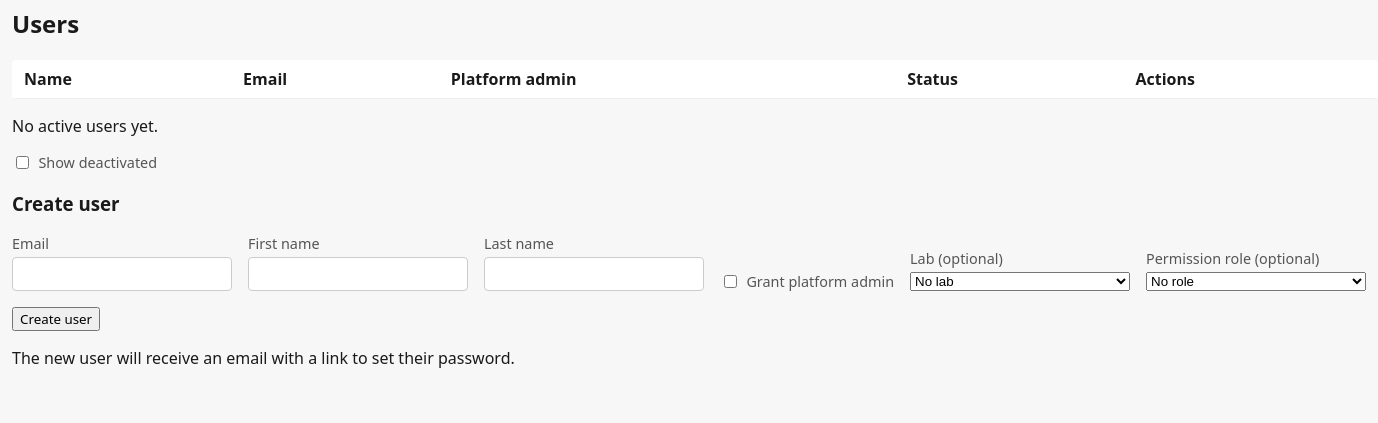
AdminUsers create form › rejects submitting a lab without a permission role
Expected: the text "No active users yet." is shown, [12, 115, 158, 137]
Type "new-hire@example.edu" into the field labelled "Email".
click(122, 274); type("new-hire@example.edu")  # box [12, 257, 232, 291]
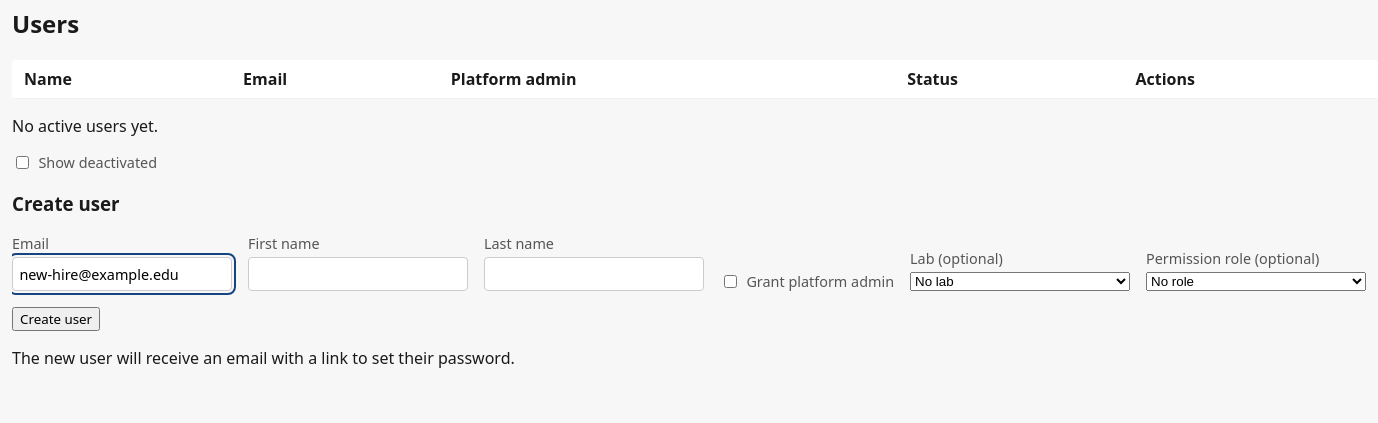
Type "New" into the field labelled "First name".
click(358, 274); type("New")  # box [248, 257, 468, 291]
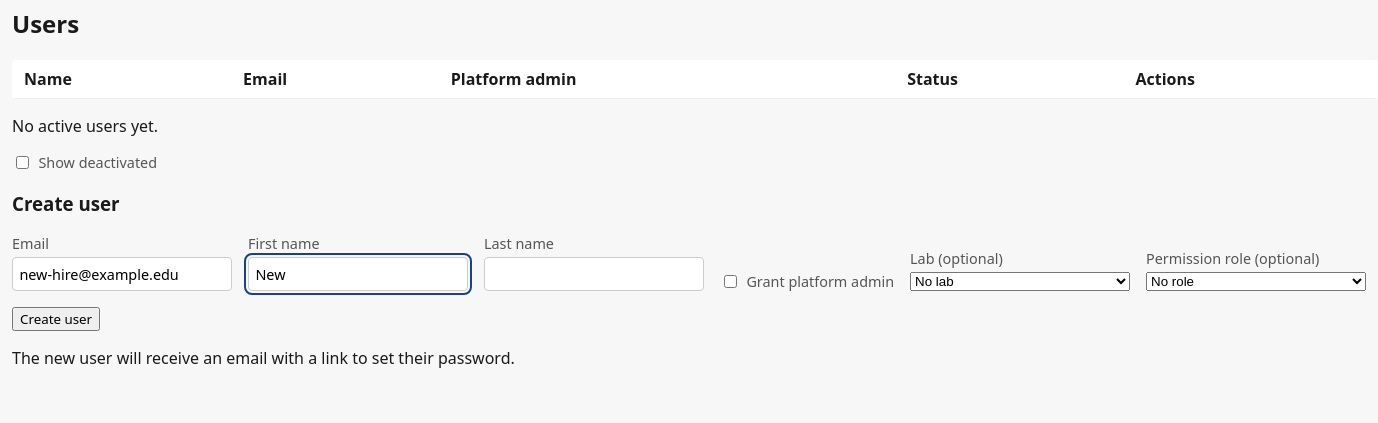
Type "Hire" into the field labelled "Last name".
click(594, 274); type("Hire")  # box [484, 257, 704, 291]
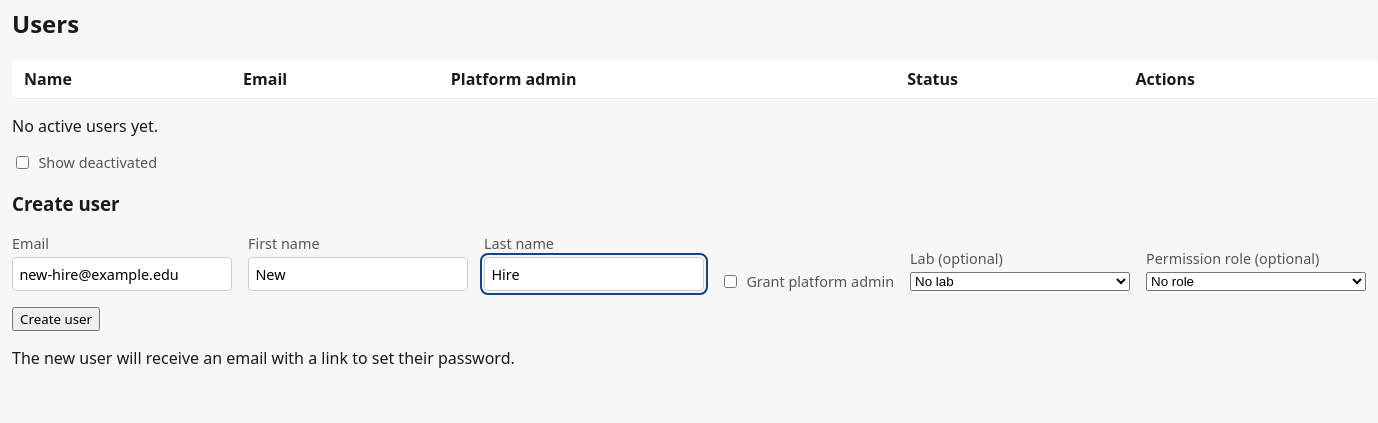
Select "Cognitive Development Center" in the dropdown labelled "Lab (optional)" at (1020, 282), box [910, 272, 1130, 291]
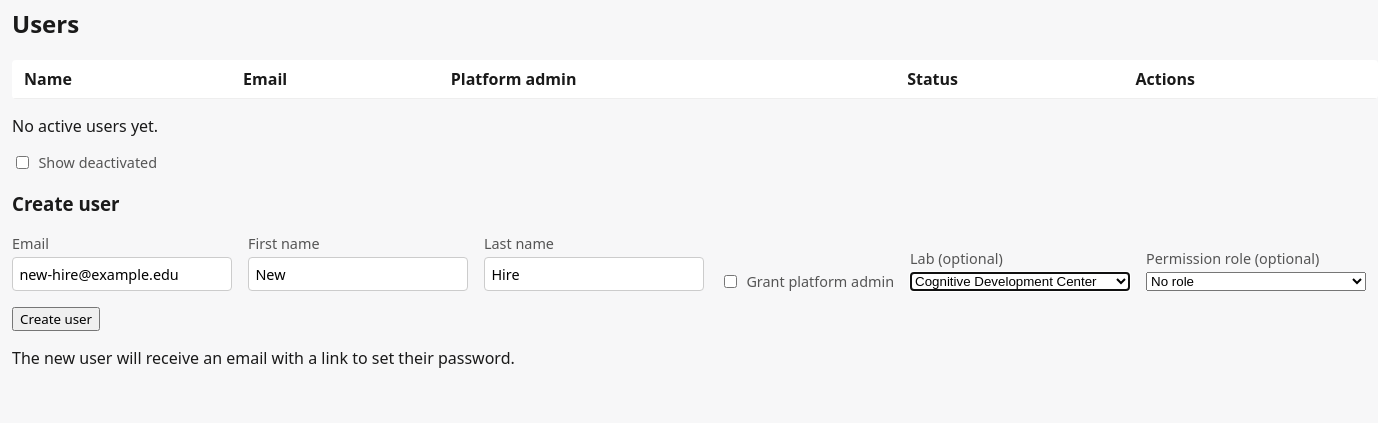
Click the button "Create user".
click(56, 319)  # box [12, 307, 100, 331]
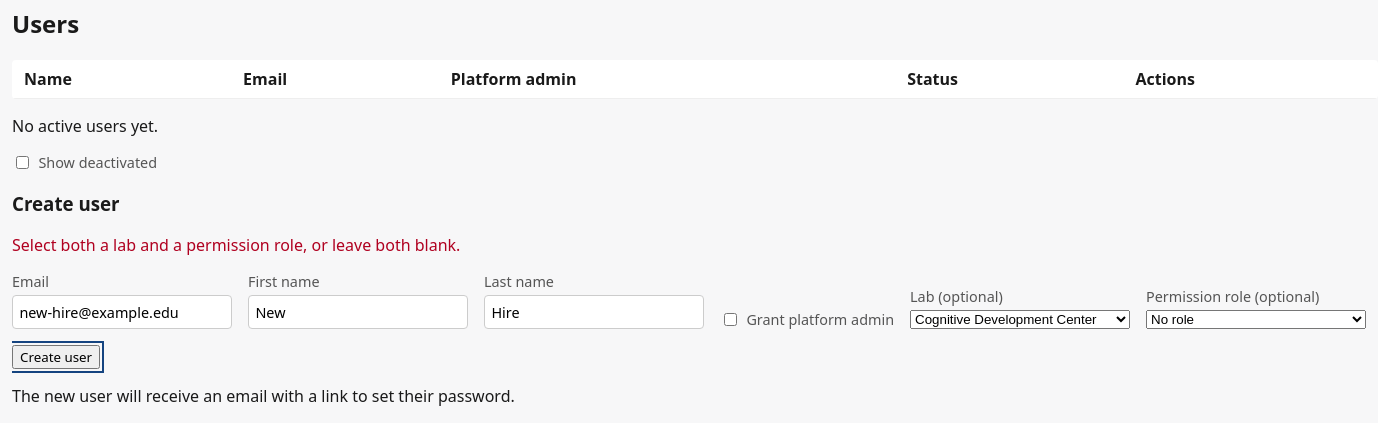
Expected: the message shows "Select both a lab and a permission role", [12, 234, 460, 256]
